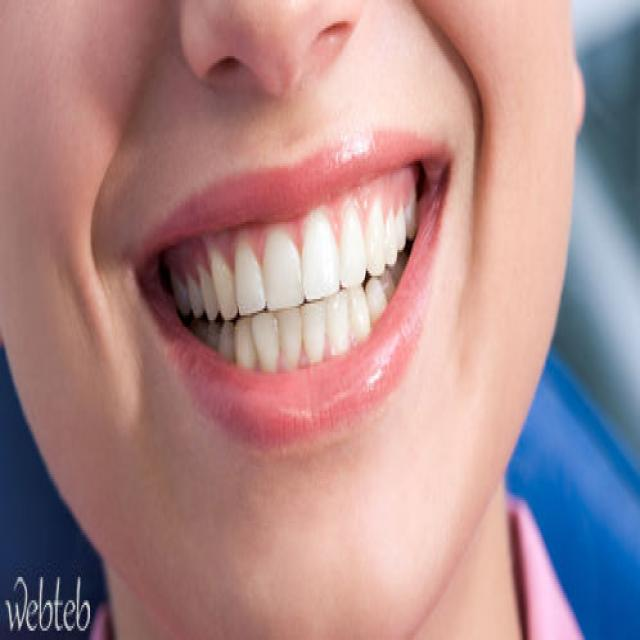tooth: (270, 227, 304, 306), (346, 278, 370, 364), (303, 229, 338, 283), (297, 316, 325, 364), (340, 217, 362, 278), (238, 245, 258, 304), (253, 320, 276, 371), (276, 315, 297, 369), (364, 231, 389, 271), (215, 273, 234, 313), (218, 320, 236, 362), (237, 320, 253, 362), (333, 304, 346, 352), (200, 269, 214, 313), (387, 208, 394, 254), (195, 278, 202, 322), (374, 285, 384, 313), (202, 320, 218, 334), (409, 201, 419, 219)
